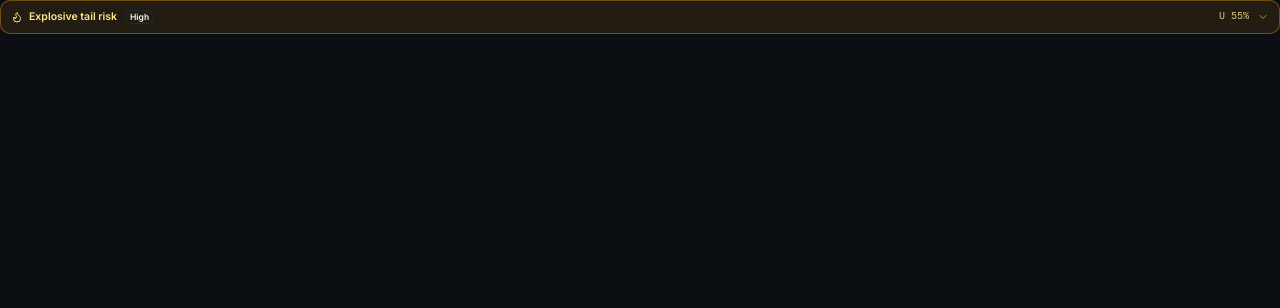
Scenario: FIX-3 — escalation notice renders in English when lang="en"
Click the button with test id "tail-risk-panel-toggle".
click(73, 16)  # box x1=11 y1=9 x2=1269 y2=25
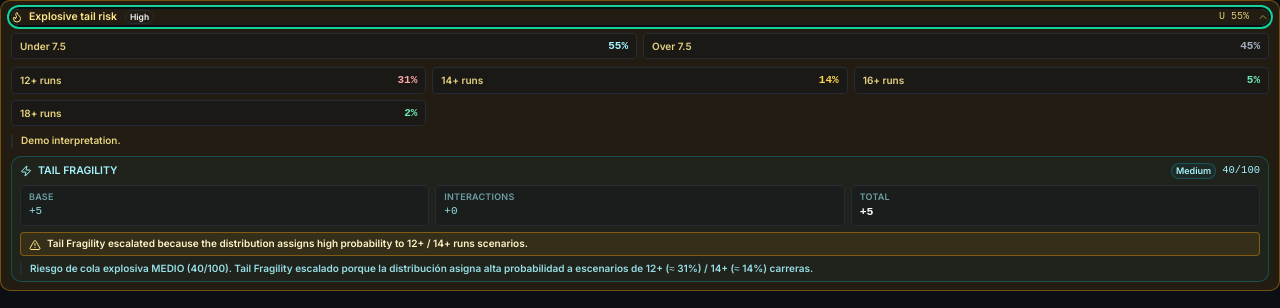
Expected: the element with test id "tail-risk-panel-fragility-engine-escalation-notice" shows "Tail Fragility escalated", x1=47 y1=236 x2=528 y2=248
